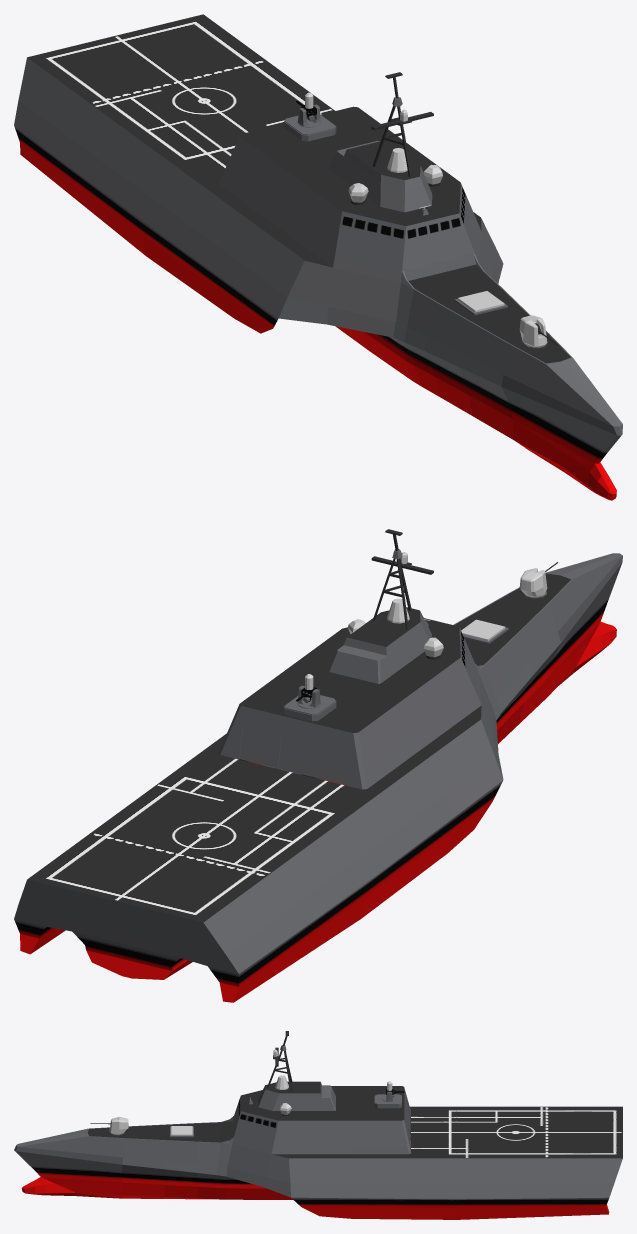
The picture shows the model from 3 angles, top to bottom: view 1: azimuth 30°, elevation 25°; view 2: azimuth 150°, elevation 25°; view 3: azimuth 270°, elevation 25°; orthographic projection. The views are drawn at different scales.
Visible parts, largest first — view 1: Cube.012, Circle.007; view 2: Cube.012, Cube.015, Cube.014, Circle.007; view 3: Cube.012, Circle.007.
Part boxes in pixels (x1=…): Cube.012: x1=14, y1=14, x2=622, y2=500; Circle.007: x1=519, y1=315, x2=547, y2=346; Cube.012: x1=14, y1=529, x2=622, y2=1002; Cube.015: x1=278, y1=733, x2=344, y2=784; Cube.014: x1=239, y1=723, x2=278, y2=767; Circle.007: x1=519, y1=568, x2=547, y2=596; Cube.012: x1=14, y1=1031, x2=622, y2=1219; Circle.007: x1=109, y1=1116, x2=128, y2=1134.
Size of the model in its own units: 3246 by 3743 by 12534.
